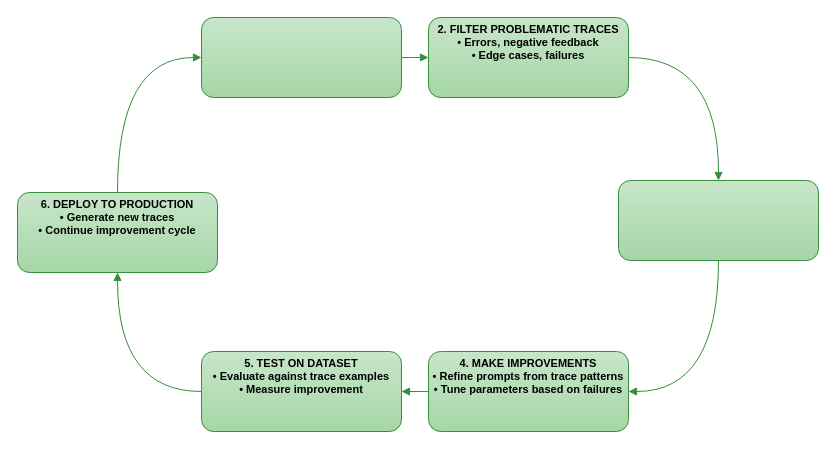
Some shapes in this 836 by 449 pixel diagram are drawn without their labels. Here are the shapes that lost their labels. From the top down, the box of each, then its label:
(200, 16, 402, 98): 1. PRODUCTION TRACES • Capture real user interactions
(618, 180, 818, 260): 3. CURATE DATASET • Add traces to evaluation dataset • Correct expected outputs
